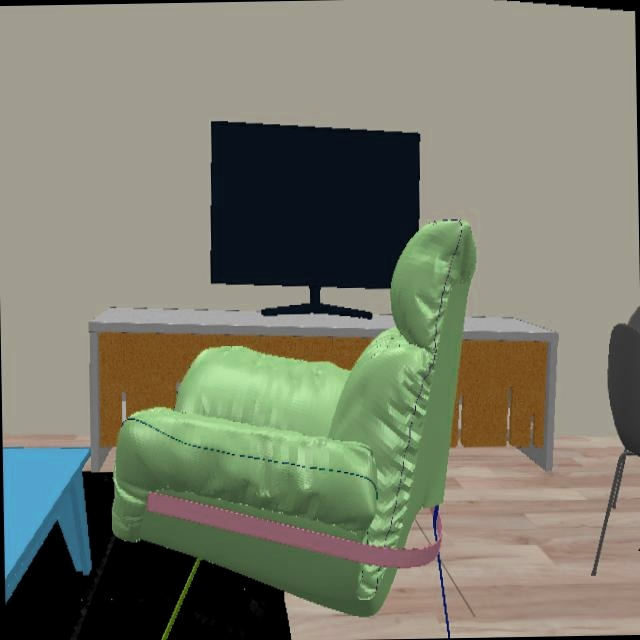chair: (605, 306, 640, 460)
monitor: (209, 122, 421, 290)
sofa: (113, 223, 470, 616)
table: (2, 447, 87, 607)
